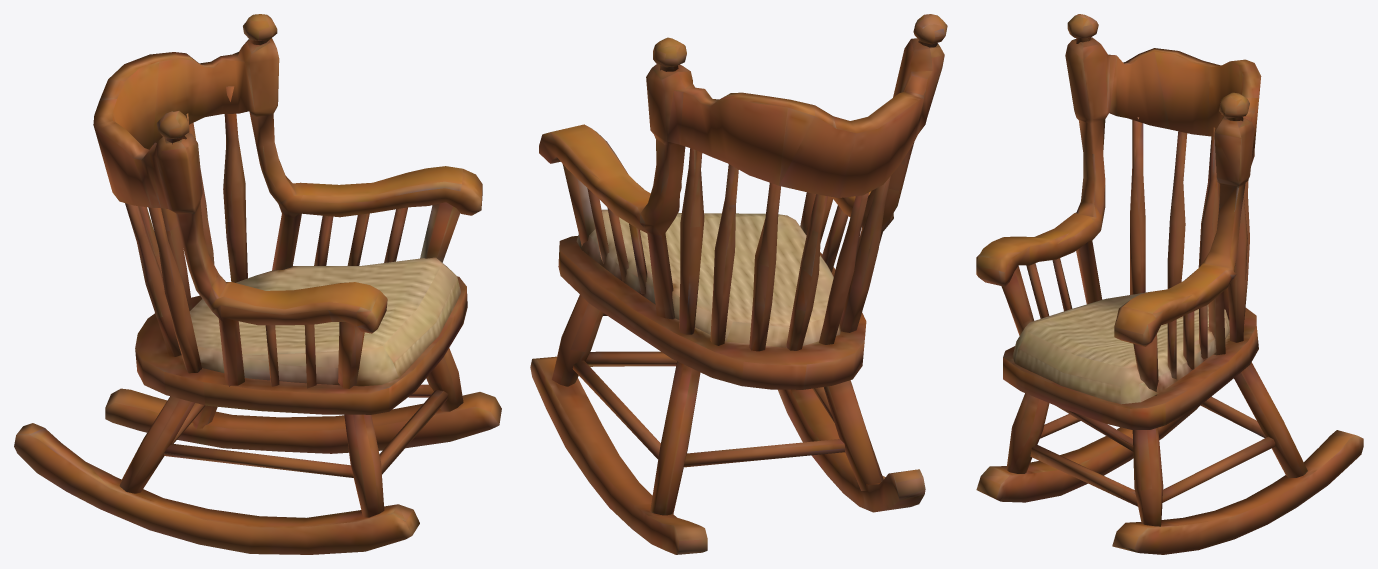
The model's file is wyn_furn_rocking_chair.glb.
3 renders of one model, left to right at view 1: azimuth 30°, elevation 25°; view 2: azimuth 150°, elevation 25°; view 3: azimuth 270°, elevation 25°, orthographic. The views are drawn at different scales.
Parts seen in each view (by area): view 1: tripo_node_5167e9e4-2452-4f84-8595-92320301de85; view 2: tripo_node_5167e9e4-2452-4f84-8595-92320301de85; view 3: tripo_node_5167e9e4-2452-4f84-8595-92320301de85.
Part boxes in pixels (<box>): tripo_node_5167e9e4-2452-4f84-8595-92320301de85: <box>14,14,501,554</box>; tripo_node_5167e9e4-2452-4f84-8595-92320301de85: <box>530,14,947,554</box>; tripo_node_5167e9e4-2452-4f84-8595-92320301de85: <box>976,14,1363,554</box>.
Bounding box in the file's own units: 1.14 × 1.15 × 0.9529.
Materials: 1 (1 with a texture image).
